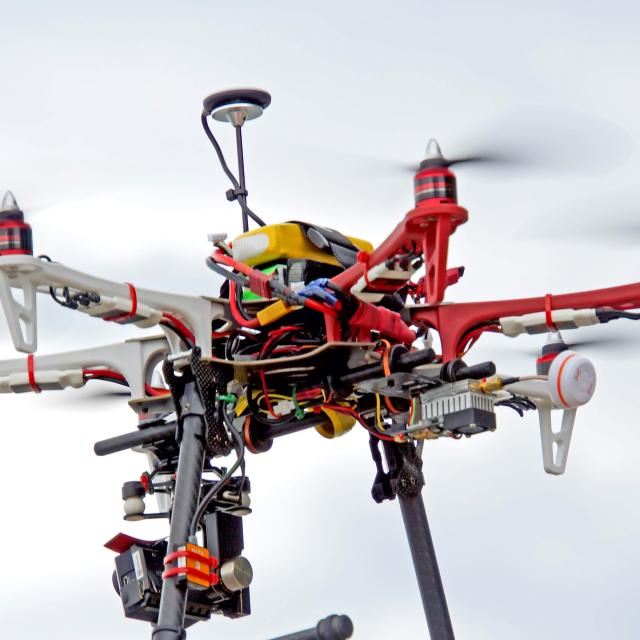drone: (0, 121, 640, 536)
